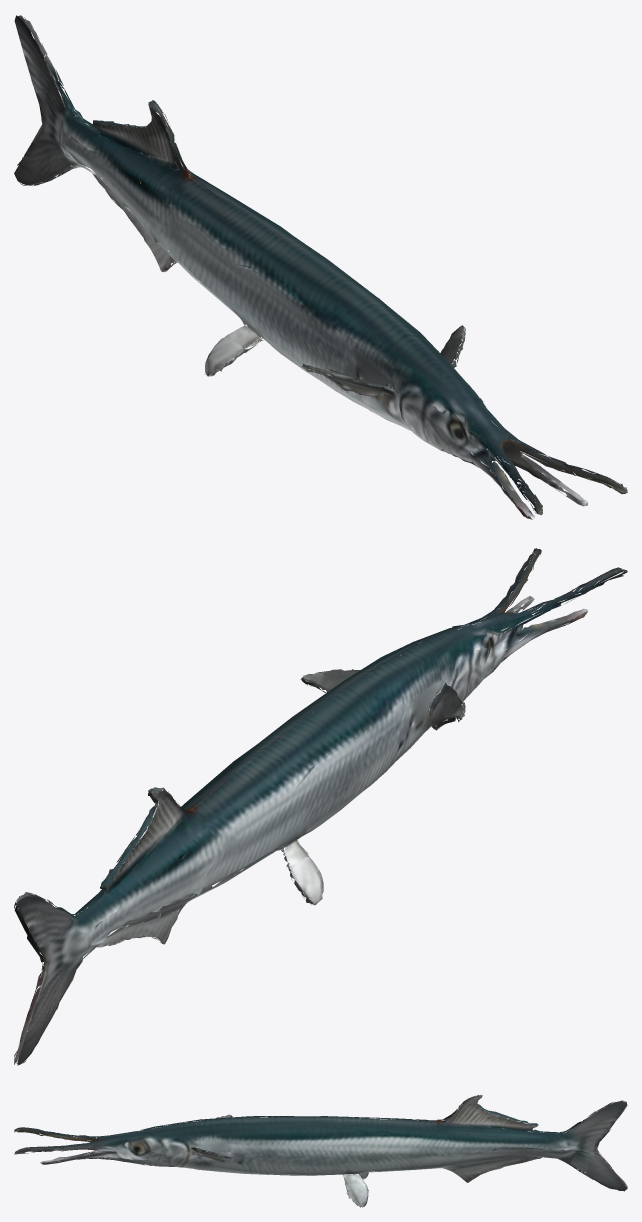
Rendered from needlefish.glb.
3 renders of one model, top to bottom at view 1: azimuth 30°, elevation 25°; view 2: azimuth 150°, elevation 25°; view 3: azimuth 270°, elevation 25°, orthographic. The views are drawn at different scales.
Parts seen in each view (by area): view 1: needlefish.001; view 2: needlefish.001; view 3: needlefish.001.
Boxes of the visible parts, bbox=[...] form: needlefish.001: bbox=[14, 15, 627, 519]; needlefish.001: bbox=[14, 548, 627, 1065]; needlefish.001: bbox=[14, 1095, 627, 1207].
Bounding box in the file's own units: 0.1661 × 0.1778 × 1.
Materials: 1 (1 with a texture image).
